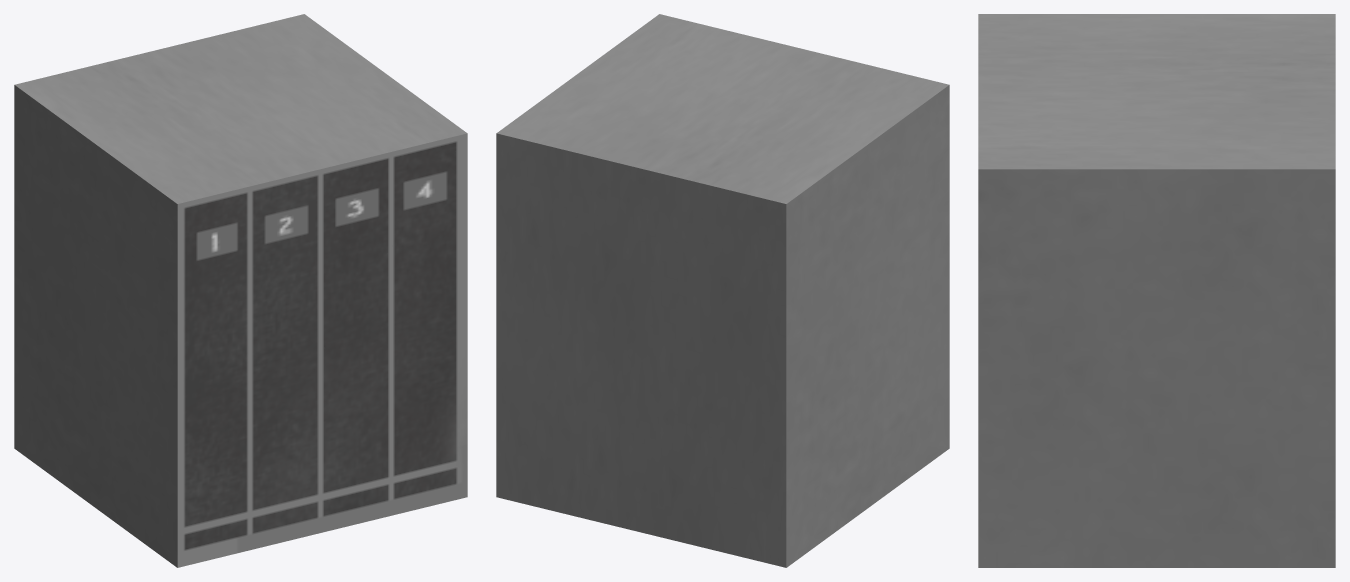
Rendered from book3.FBX.
3 views of the same model, side by side, from view 1: azimuth 30°, elevation 25°; view 2: azimuth 150°, elevation 25°; view 3: azimuth 270°, elevation 25° (orthographic). The views are drawn at different scales.
Parts seen in each view (by area): view 1: book3; view 2: book3; view 3: book3.
Part boxes in pixels (x1,y1,x2,y2): book3: (14, 14, 467, 567); book3: (496, 14, 949, 567); book3: (978, 14, 1335, 567).
Bounding box in the file's own units: 59.11 × 70.85 × 57.56.
